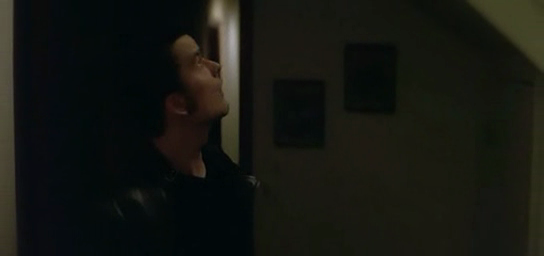face: (179, 37, 231, 120)
mcu: (1, 1, 544, 256)
person: (104, 21, 258, 256)
